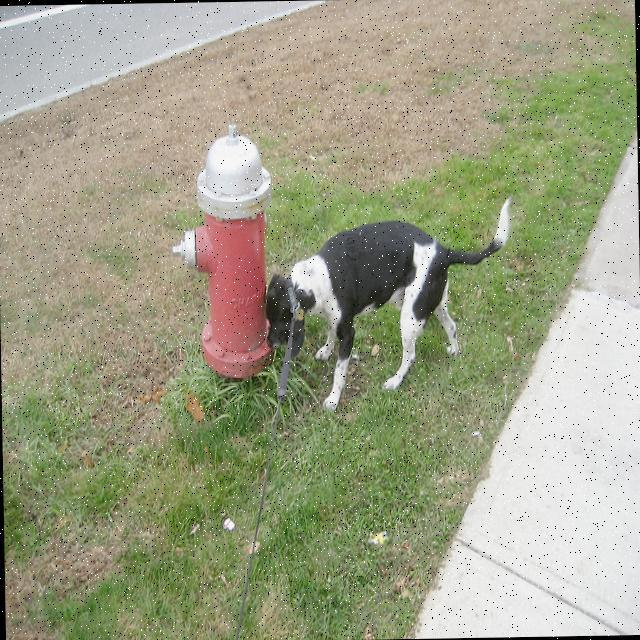fire_hydrant: (168, 119, 278, 381)
